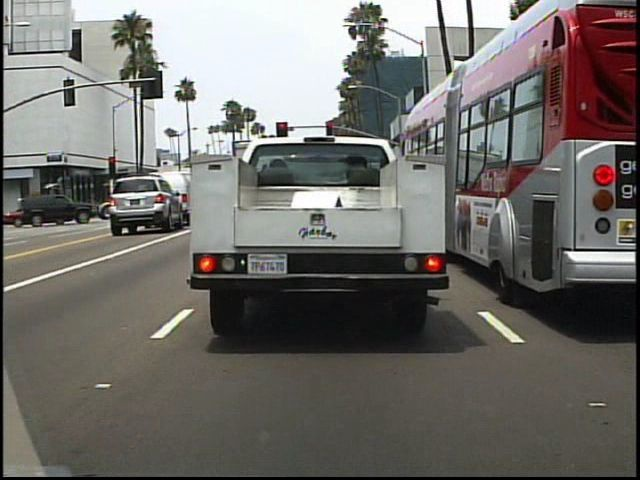person: (29, 194, 48, 227)
